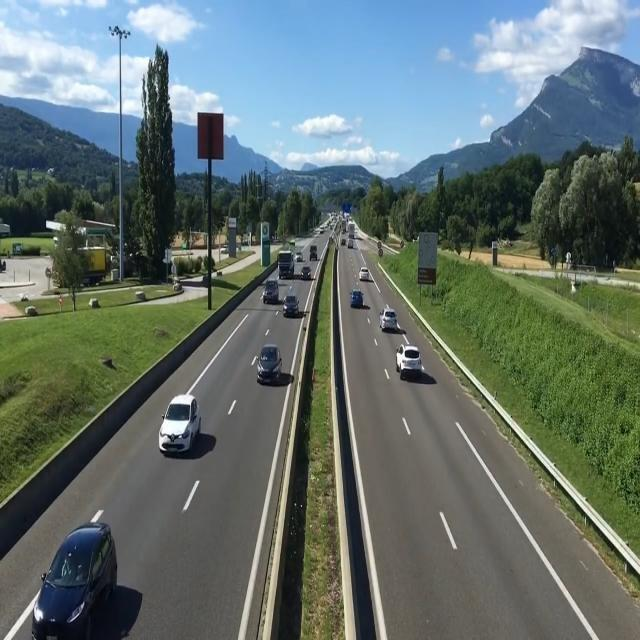Car: (30, 521, 120, 640), (156, 393, 202, 454), (255, 344, 282, 384), (395, 344, 422, 379), (379, 308, 398, 332), (282, 294, 300, 317), (262, 280, 279, 304), (349, 288, 365, 308), (300, 266, 312, 280), (358, 266, 369, 280), (295, 252, 303, 262)
Truck: (276, 249, 294, 279), (348, 223, 355, 239)
